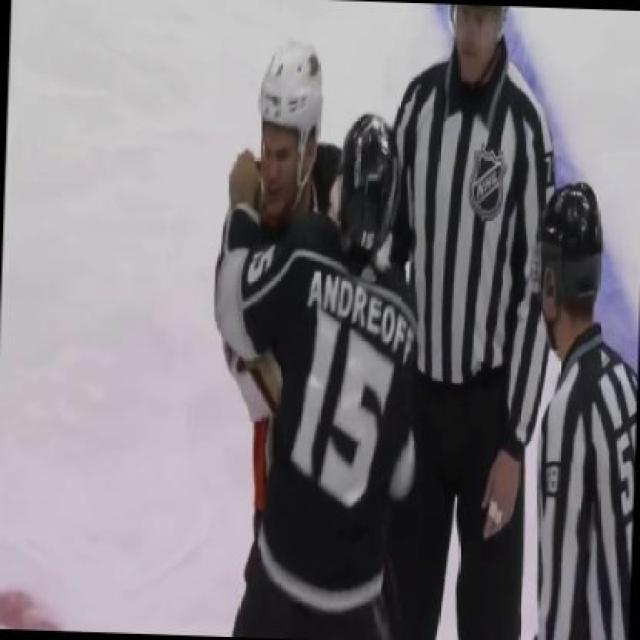fight: (171, 19, 424, 638)
non-fight: (383, 5, 565, 640), (520, 180, 640, 640)
